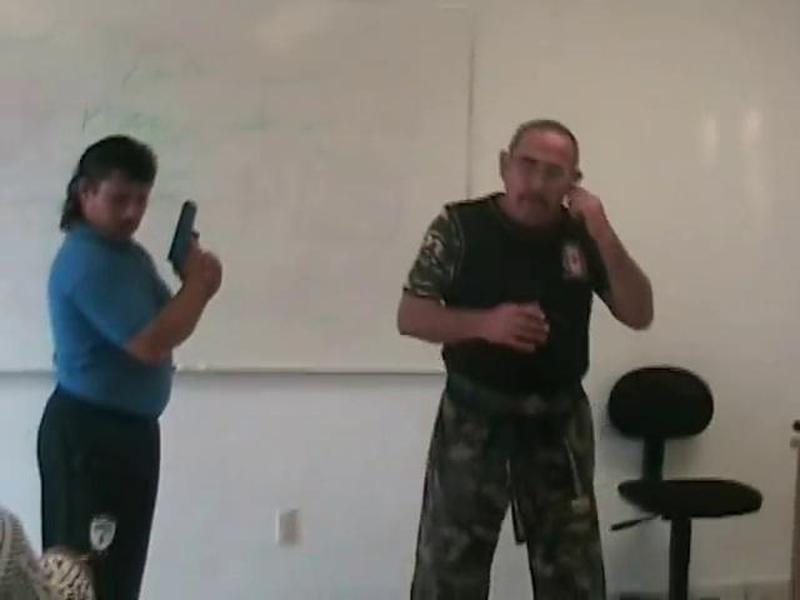Pistola: (166, 194, 210, 283)
